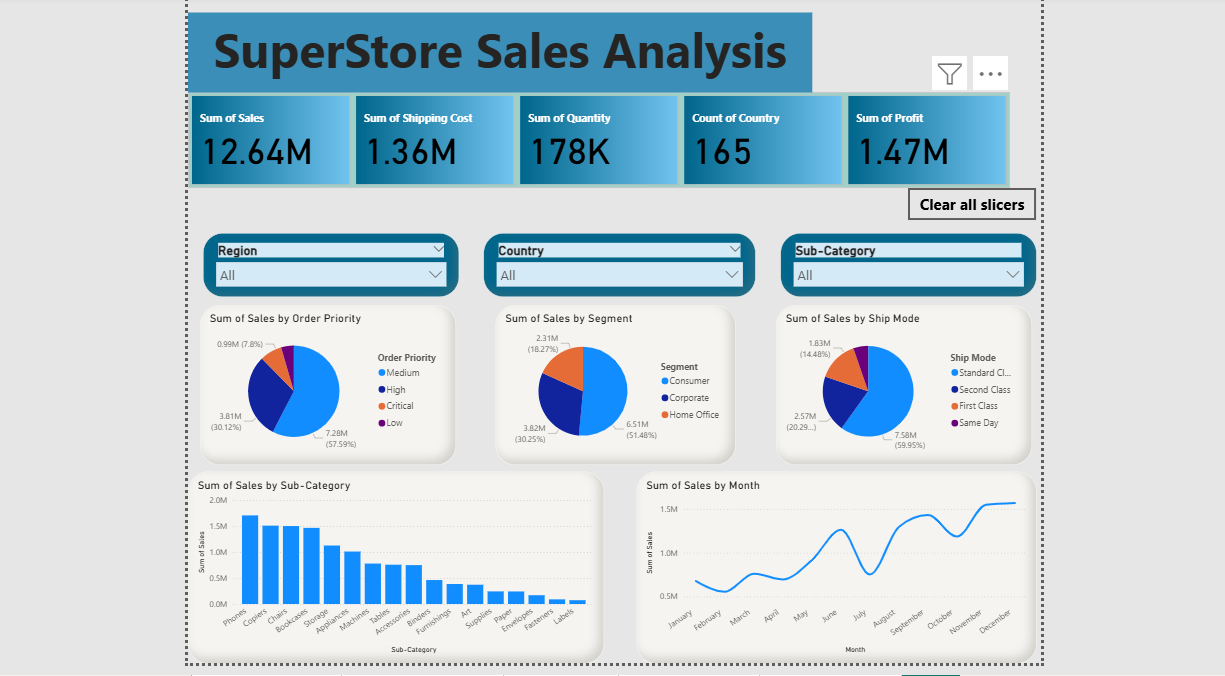

The dashboard page shown, as its layout file describes it:
{"tool":"powerbi","page":{"name":"Dashboard","canvas":[1280,1000],"ordinal":0},"visuals":[{"type":"columnChart","fields":{"Category":["Orders.Sub-Category"],"Y":["Sum(Orders.Sales)"]},"box":[0,712,624,288],"z":0},{"type":"lineChart","fields":{"Category":["Orders.Order Date.Variation.Date Hierarchy.Month"],"Y":["Sum(Orders.Sales)"]},"box":[672,712,600,288],"z":1000},{"type":"pieChart","fields":{"Category":["Orders.Order Priority"],"Y":["Sum(Orders.Sales)"]},"box":[18.1,463.9,384,240],"z":2000},{"type":"slicer","fields":{"Values":["Orders.Country"]},"box":[443.3,354.8,408,96],"z":3000},{"type":"pieChart","fields":{"Category":["Orders.Segment"],"Y":["Sum(Orders.Sales)"]},"box":[462.1,463.9,360,240],"z":4000},{"type":"slicer","fields":{"Values":["Orders.Region"]},"box":[23.3,354.8,384,96],"z":5000},{"type":"cardVisual","fields":{"Data":["Sum(Orders.Sales)","Sum(Orders.Shipping Cost)","Sum(Orders.Quantity)","Count(Orders.Country)","Sum(Orders.Profit)"]},"box":[0,144,1232,144],"z":6000},{"type":"pieChart","fields":{"Category":["Orders.Ship Mode"],"Y":["Sum(Orders.Sales)"]},"box":[882.1,463.9,384,240],"z":7000},{"type":"slicer","fields":{"Values":["Orders.Sub-Category"]},"box":[887.3,354.8,384,96],"z":8000},{"type":"textbox","box":[0,24,936,120],"z":9000},{"type":"actionButton","box":[1080,288,192,48],"z":10000}]}

Visuals, with their boxes on the page's 1280x1000 design canvas (x1, y1, x2, y2). These are canvas units, not pixel positions in the 1225x676 screenshot, which may show the page scaled, cropped or inside an application window:
columnChart - Orders.Sub-Category x Sum(Orders.Sales): <bbox>0, 712, 624, 1000</bbox>
lineChart - Orders.Order Date.Variation.Date Hierarchy.Month x Sum(Orders.Sales): <bbox>672, 712, 1272, 1000</bbox>
pieChart - Orders.Order Priority x Sum(Orders.Sales): <bbox>18, 464, 402, 704</bbox>
slicer - Orders.Country: <bbox>443, 355, 851, 451</bbox>
pieChart - Orders.Segment x Sum(Orders.Sales): <bbox>462, 464, 822, 704</bbox>
slicer - Orders.Region: <bbox>23, 355, 407, 451</bbox>
cardVisual - Sum(Orders.Sales) x Sum(Orders.Shipping Cost): <bbox>0, 144, 1232, 288</bbox>
pieChart - Orders.Ship Mode x Sum(Orders.Sales): <bbox>882, 464, 1266, 704</bbox>
slicer - Orders.Sub-Category: <bbox>887, 355, 1271, 451</bbox>
textbox: <bbox>0, 24, 936, 144</bbox>
actionButton: <bbox>1080, 288, 1272, 336</bbox>
